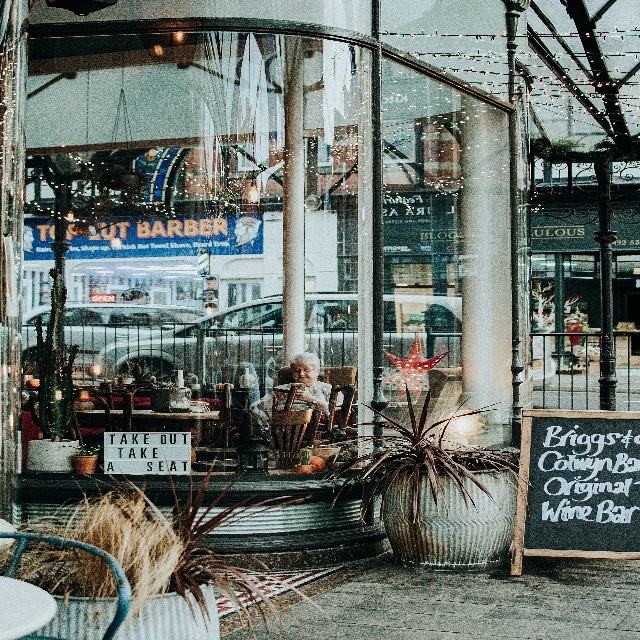Gafas: (292, 367, 315, 374)
Sin_guantes: (295, 385, 311, 403), (276, 388, 290, 401)
